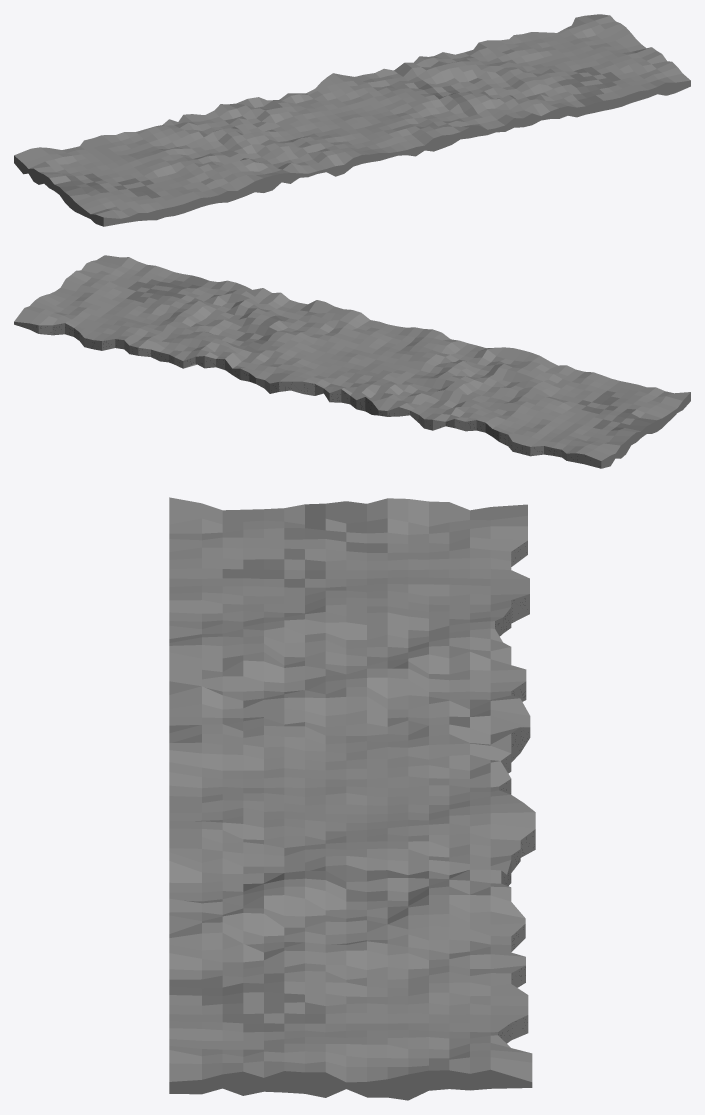
File: red_left_wall.fbx
3 views of the same model, one above another, from view 1: azimuth 30°, elevation 25°; view 2: azimuth 150°, elevation 25°; view 3: azimuth 270°, elevation 25° (orthographic). The views are drawn at different scales.
Parts seen in each view (by area): view 1: Grid; view 2: Grid; view 3: Grid.
Part boxes in pixels (<box>): Grid: <box>14,14,690,226</box>; Grid: <box>14,255,690,468</box>; Grid: <box>169,497,535,1100</box>.
Bounding box in the file's own units: 8.2 × 0.2253 × 2.22.
Materials: 2 (2 with a texture image).
